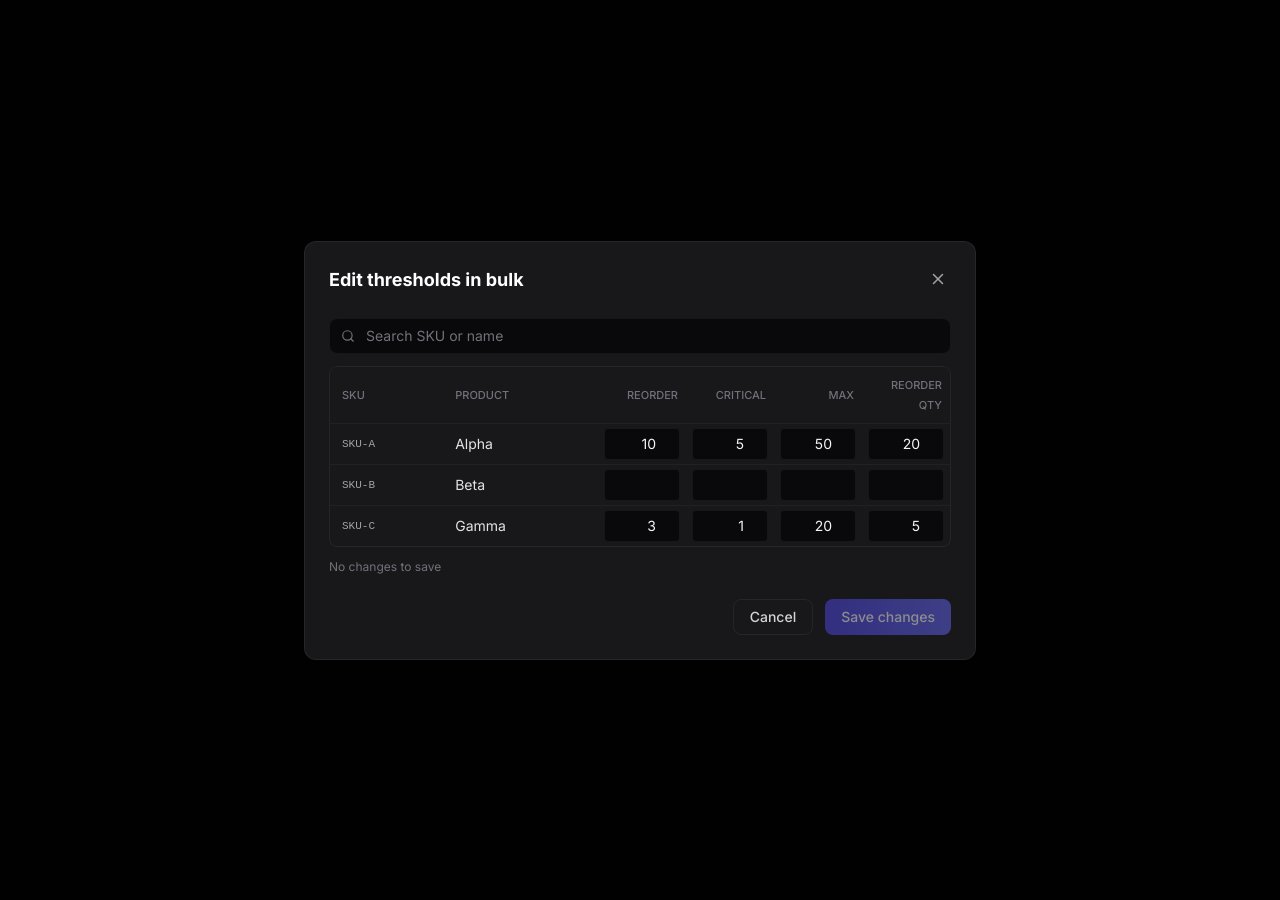
Test case: BulkThresholdsModal › flags invalid rows and disables save
Replace the text in the number field with test id "bulk-reorder_threshold-pm-1" with "3" at [642, 444], box x1=604 y1=428 x2=680 y2=460
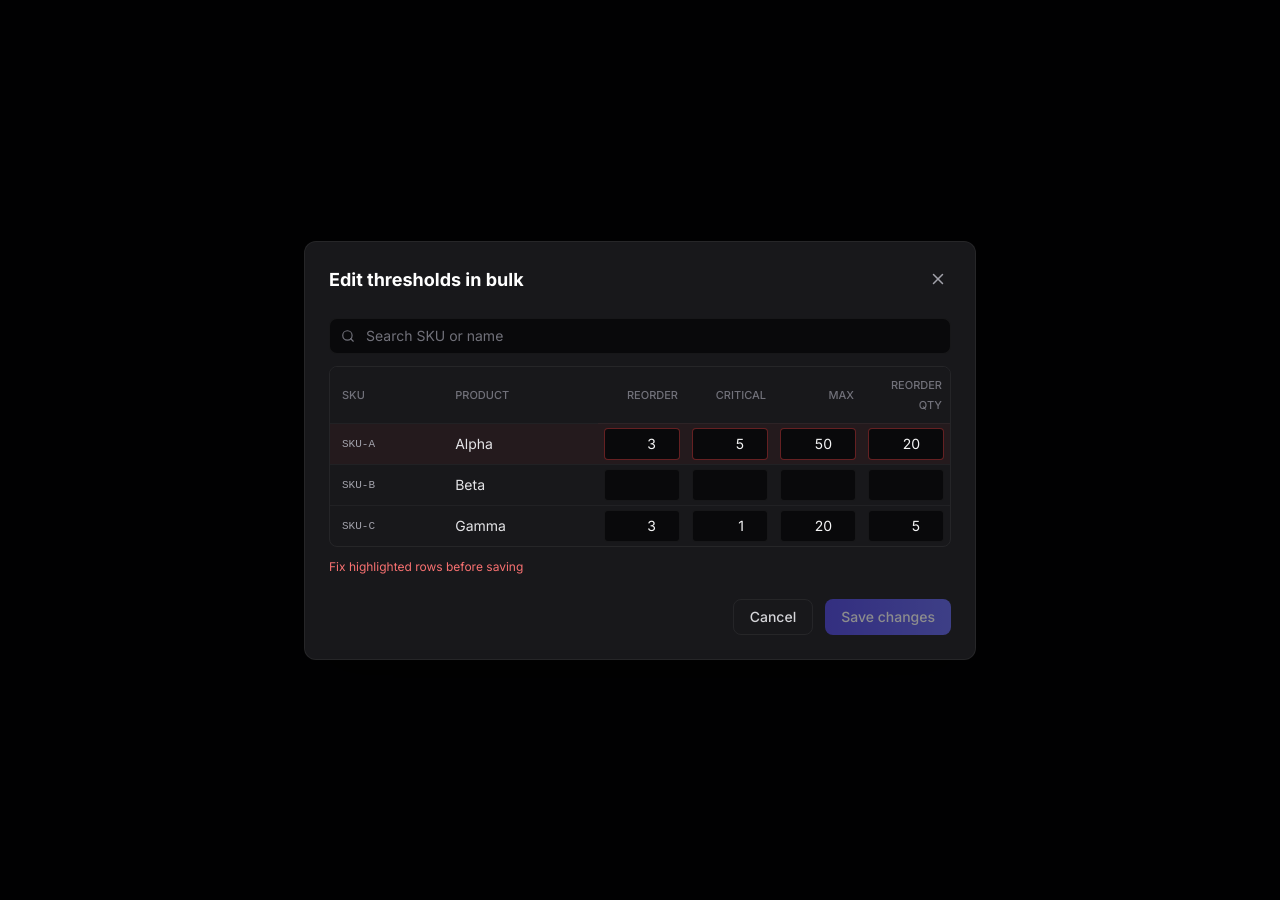
Expected: the button with test id "bulk-thresholds-save" is disabled, x1=825 y1=598 x2=951 y2=634
Expected: the text "Fix highlighted rows before saving" is shown, x1=329 y1=558 x2=523 y2=574
